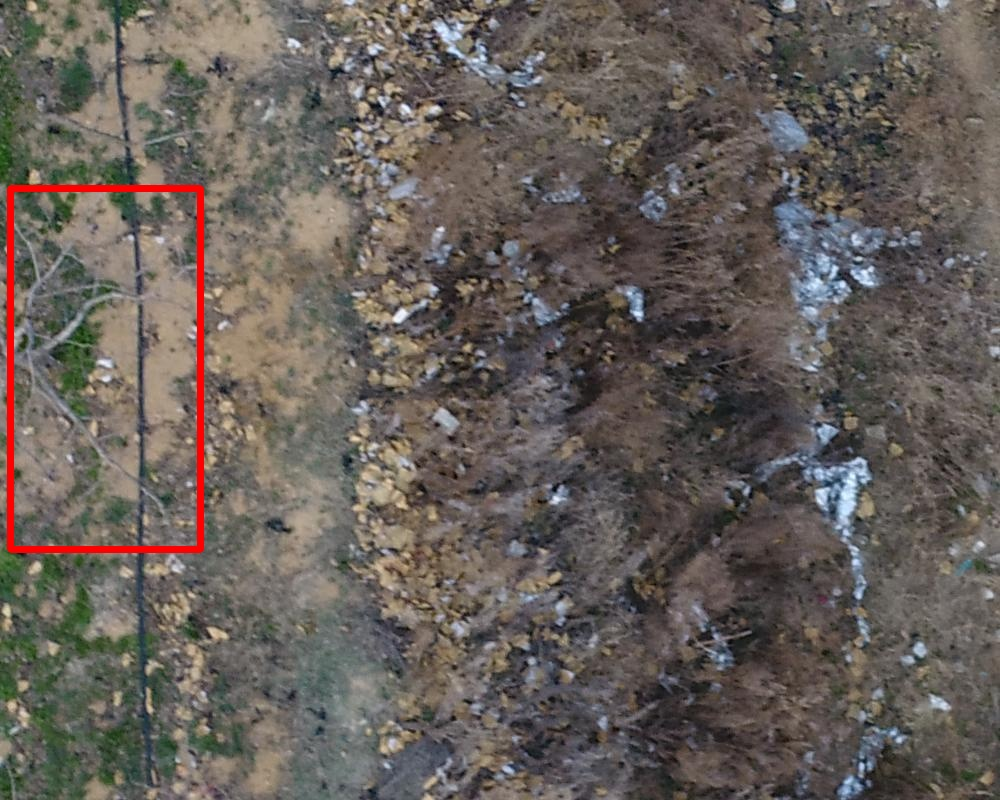apple: (10, 188, 200, 549)
